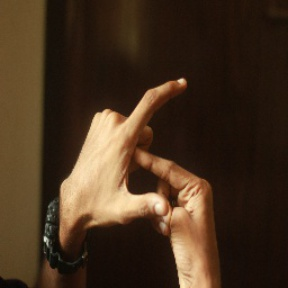E: (113, 62, 201, 228)
